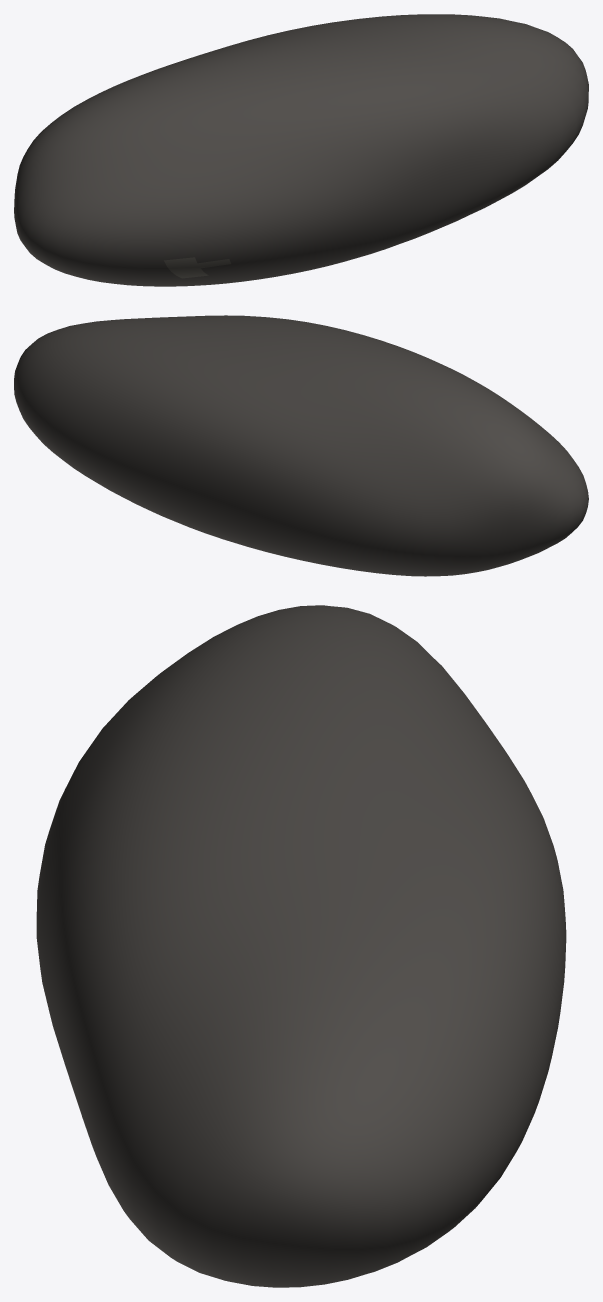
The model's file is Stone_04_Long.fbx.
3 views of the same model, one above another, from view 1: azimuth 30°, elevation 25°; view 2: azimuth 150°, elevation 25°; view 3: azimuth 270°, elevation 25° (orthographic). The views are drawn at different scales.
Visible parts, largest first — view 1: Stone_04_Long; view 2: Stone_04_Long; view 3: Stone_04_Long.
Part boxes in pixels (<box>): Stone_04_Long: <box>14,14,588,286</box>; Stone_04_Long: <box>14,315,588,576</box>; Stone_04_Long: <box>36,605,566,1287</box>.
Size of the model in its own units: 0.0571 by 0.0197 by 0.0238.
